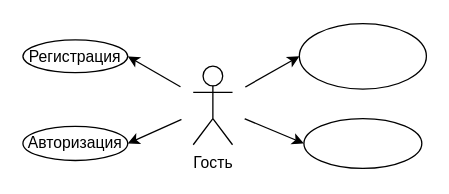
Some shapes in this 449 by 194 pixel diagram are drawn without their labels. Each missing label, with the box of its shape:
Просмотр аукциона: (303, 117, 422, 168)
Просмотр списка аукционов: (298, 22, 426, 89)
